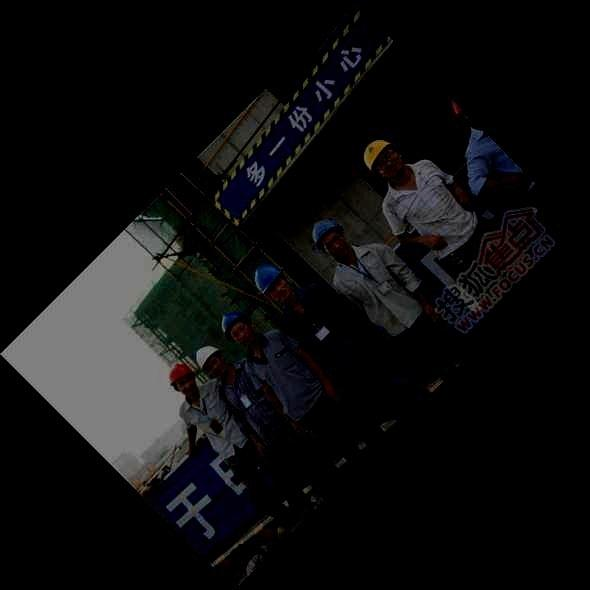helmet: (363, 139, 403, 177), (254, 264, 292, 301), (312, 218, 346, 257), (195, 345, 226, 377), (221, 313, 252, 345), (169, 362, 197, 395)
